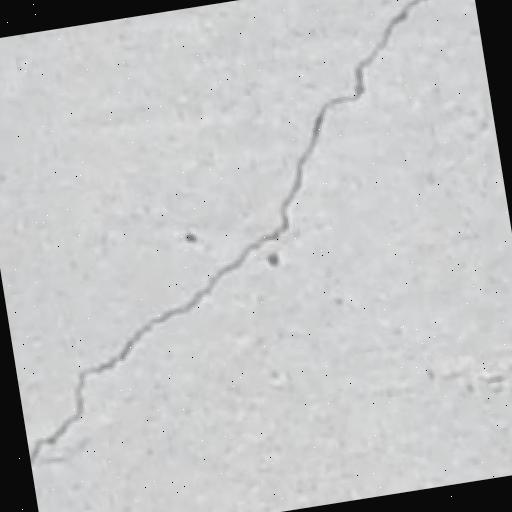spalling: (29, 0, 443, 487)
